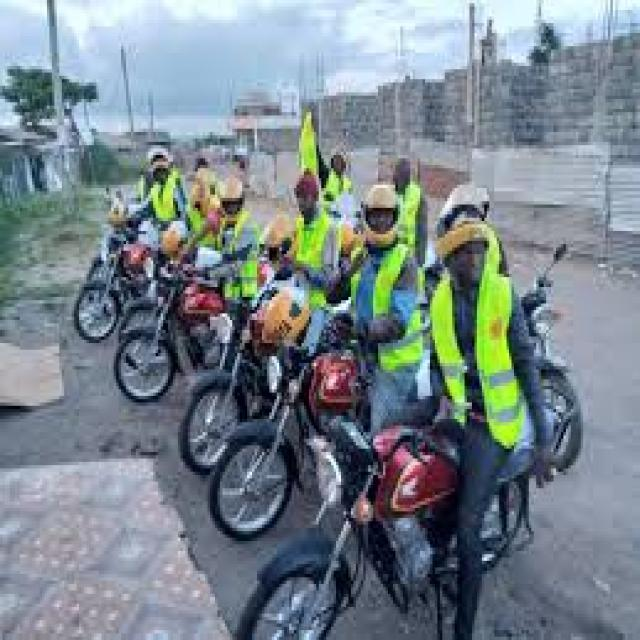bodaboda: (230, 382, 622, 640), (110, 231, 284, 392)
